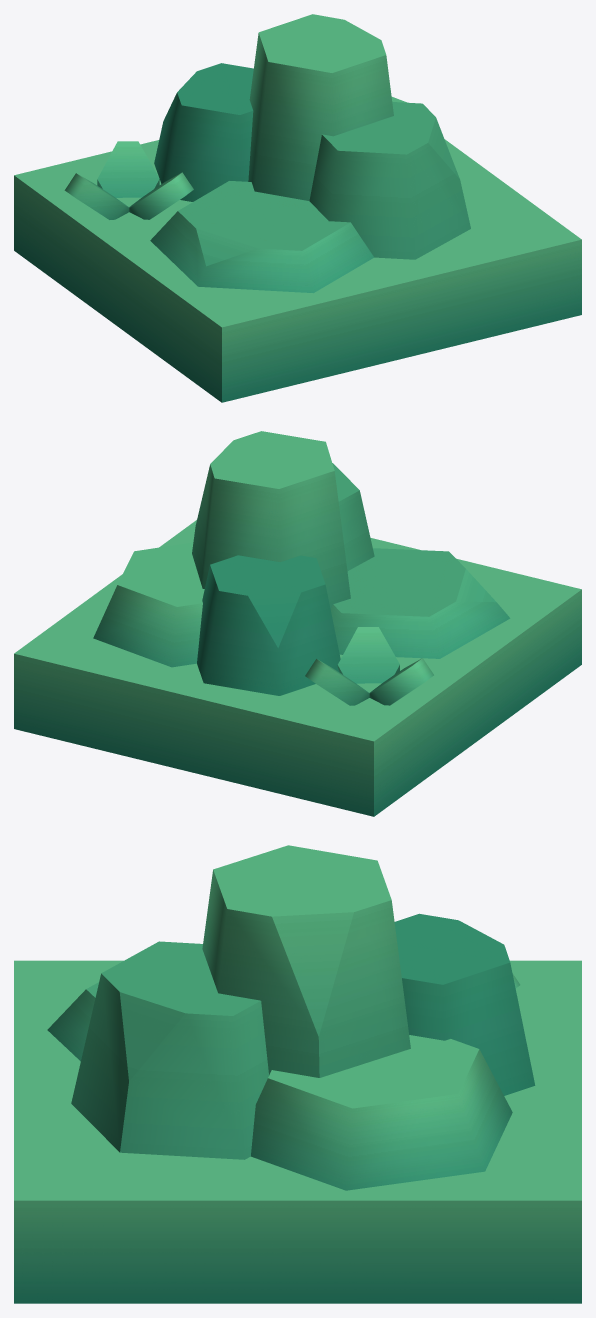
The model's file is tile-hill.glb.
The picture shows the model from 3 angles, top to bottom: view 1: azimuth 30°, elevation 25°; view 2: azimuth 150°, elevation 25°; view 3: azimuth 270°, elevation 25°; orthographic projection. The views are drawn at different scales.
Visible parts, largest first — view 1: tile-hill; view 2: tile-hill; view 3: tile-hill.
Boxes of the visible parts, x1,y1,x2,y2 form: tile-hill: (14,14,581,402); tile-hill: (14,431,581,816); tile-hill: (14,845,581,1303).
Bounding box in the file's own units: 1 × 0.6145 × 1.
Materials: 1 (1 with a texture image).
